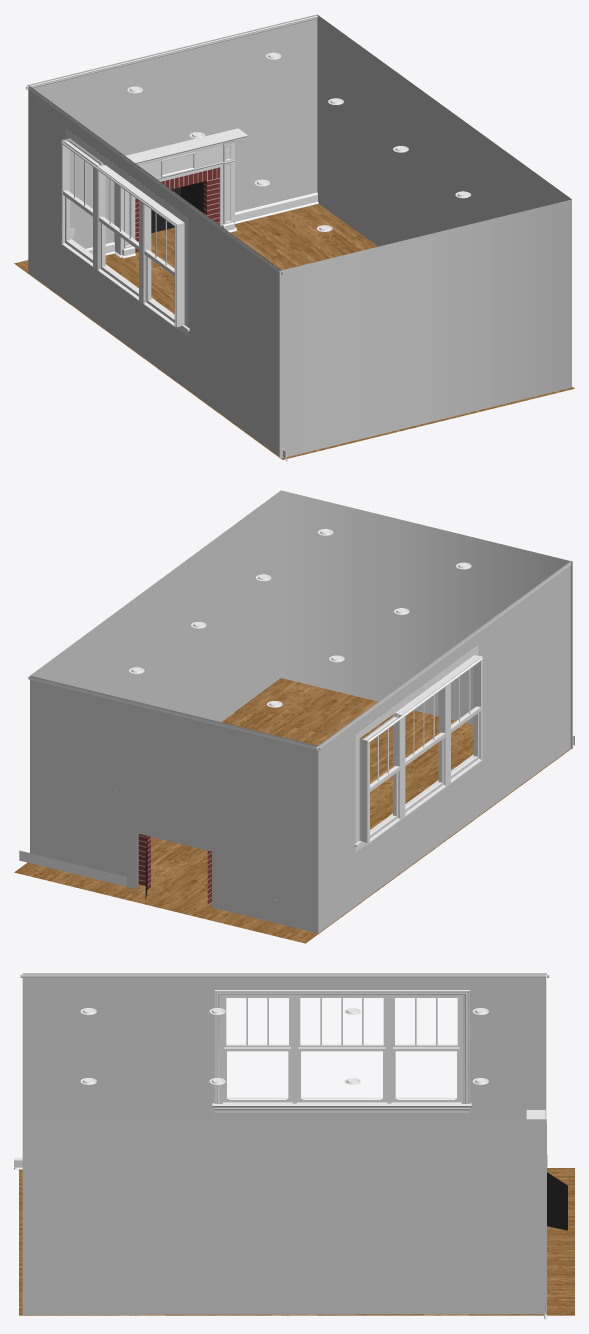
Rendered from light-test.fbx.
The picture shows the model from 3 angles, top to bottom: view 1: azimuth 30°, elevation 25°; view 2: azimuth 150°, elevation 25°; view 3: azimuth 270°, elevation 25°; orthographic projection. The views are drawn at different scales.
Visible parts, largest first — view 1: walls, living-room__window, floor, mantle, picture-moulding, baseboard, recessed-lights; view 2: walls, floor, living-room__window, picture-moulding, baseboard, mantle, recessed-lights; view 3: walls, living-room__window, floor, picture-moulding, mantle, recessed-lights.
Boxes of the visible parts, x1,y1,x2,y2 form: walls: (28,14,571,458); living-room__window: (61,129,189,336); floor: (14,203,574,459); mantle: (114,128,248,258); picture-moulding: (26,15,319,275); baseboard: (85,192,318,461); recessed-lights: (127,52,471,231); walls: (30,490,572,933); floor: (14,678,572,943); living-room__window: (354,645,482,852); picture-moulding: (28,562,570,750); baseboard: (19,735,574,886); mantle: (137,833,211,903); recessed-lights: (129,529,471,707); walls: (22,973,546,1314); living-room__window: (212,990,471,1112); floor: (19,1168,574,1315); picture-moulding: (20,974,549,1124); mantle: (526,1110,567,1230); recessed-lights: (80,1008,489,1084).
Bounding box in the file's own units: 422 × 247 × 641.
